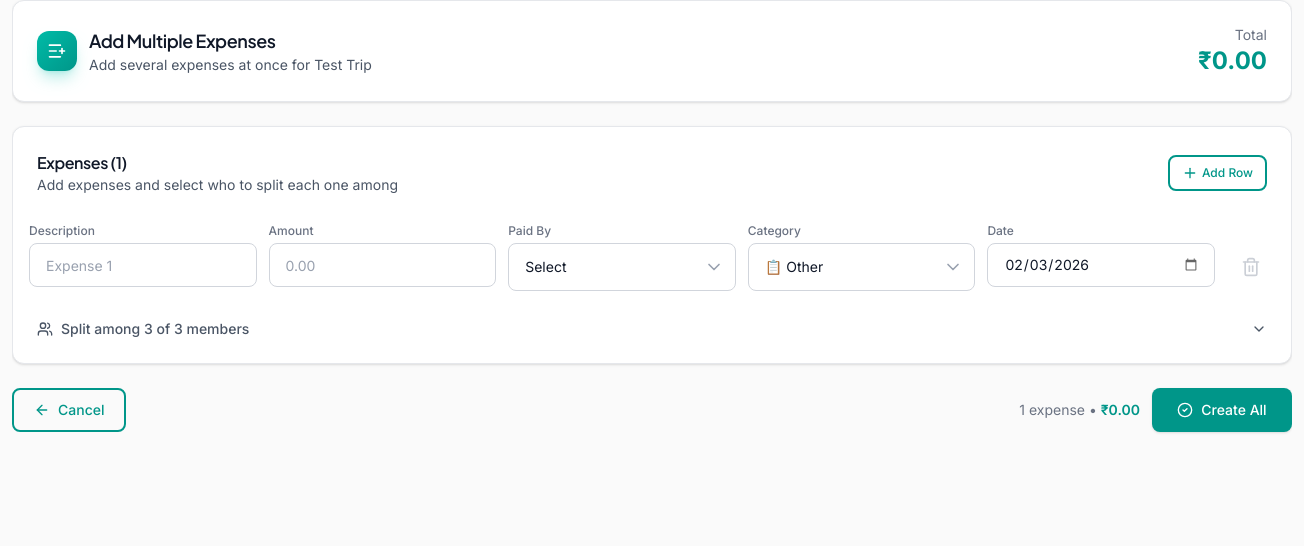
Test: BulkExpenseForm › shows select all and clear all buttons
Note: Expand split section
Click the button "Split among 3 of 3 members" at [102, 328], box left=29, top=311, right=1275, bottom=347
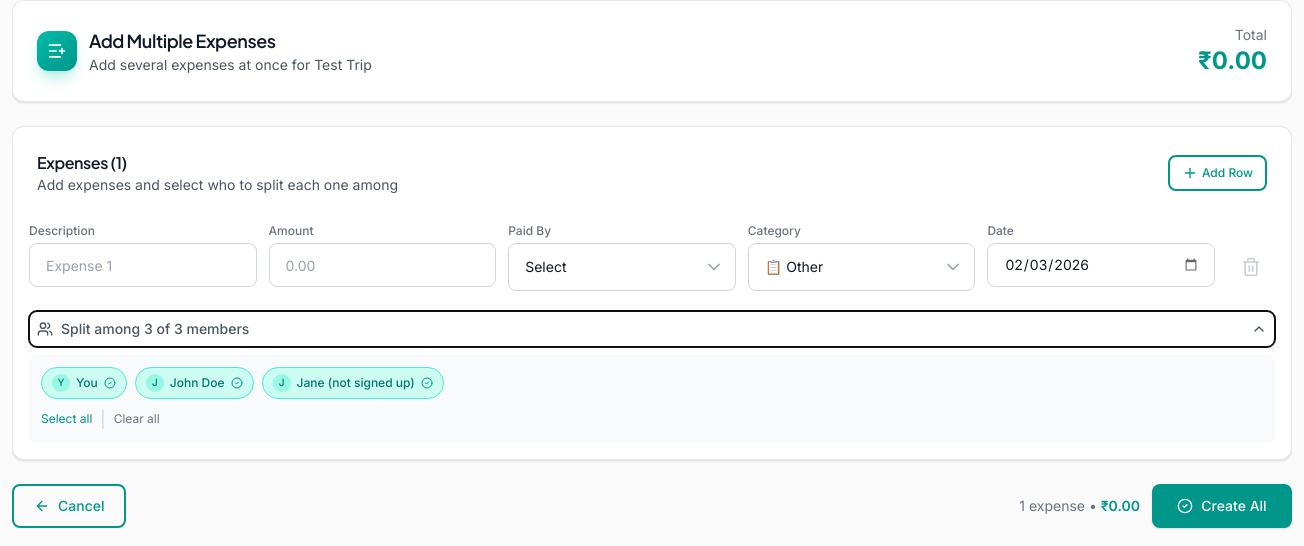
Expected: the button "Select all" is shown, left=41, top=407, right=92, bottom=431
Expected: the button "Clear all" is shown, left=114, top=407, right=160, bottom=431
